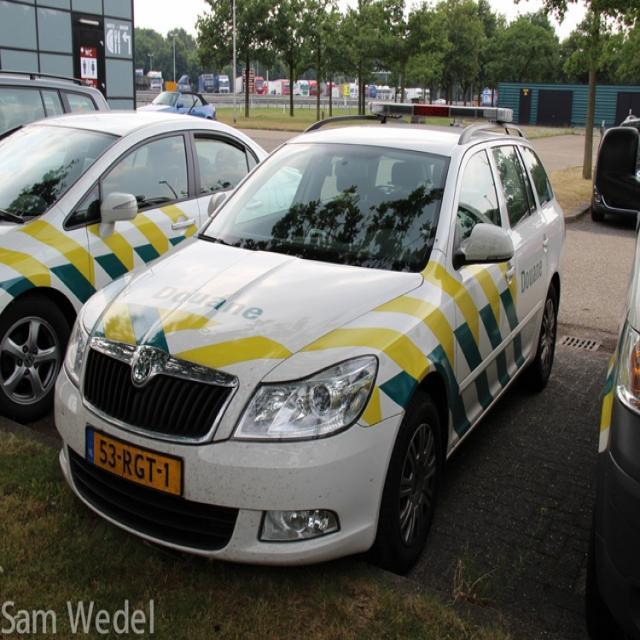number_plate: (84, 425, 184, 490)
